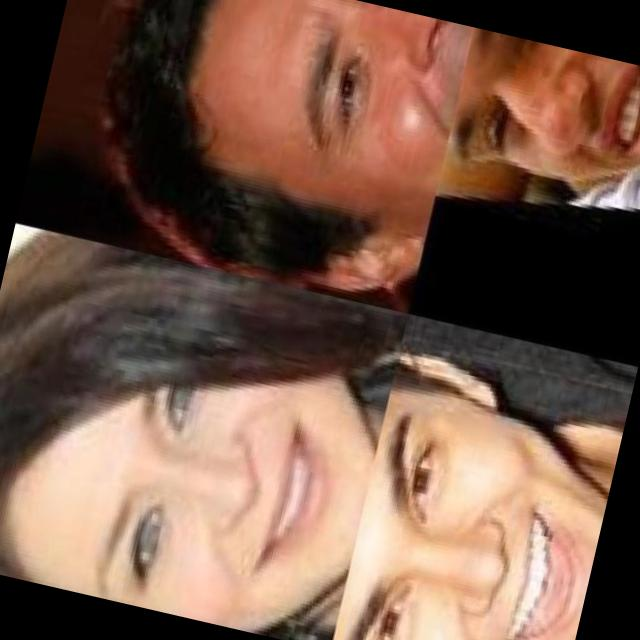bareface: (0, 288, 379, 640)
